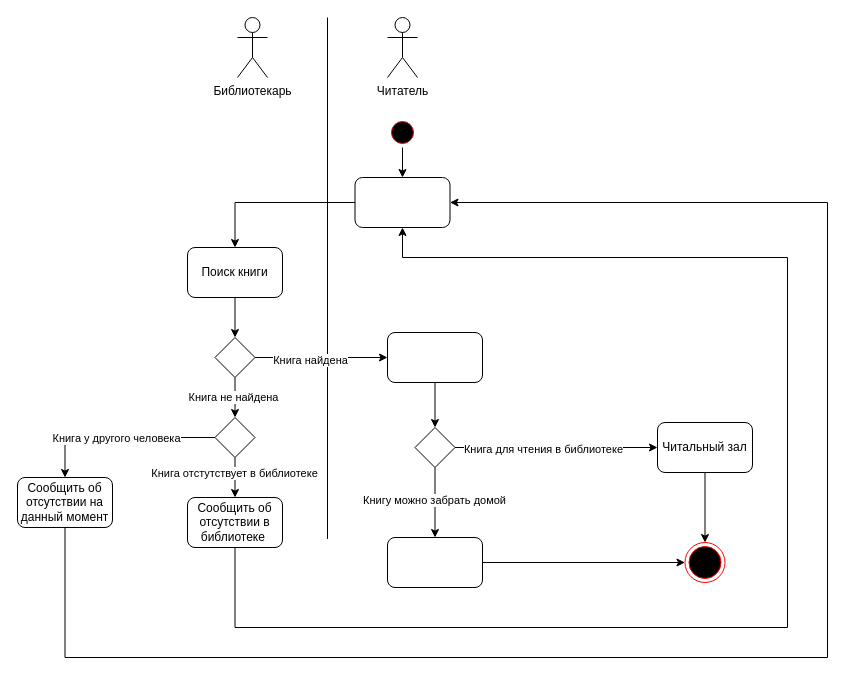
Image size: 853x683. Some labels were removed from this diagram. The centre of each missing label's shape, as x and y in pixels:
Выдать книгу: point (434, 357)
Назвать индекс книги: point (402, 202)
Уйти из библиотеки: point (434, 562)
